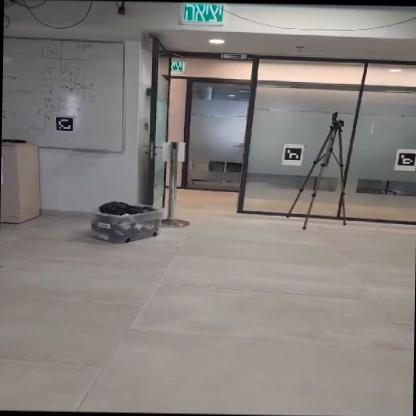open: (145, 46, 254, 210)
